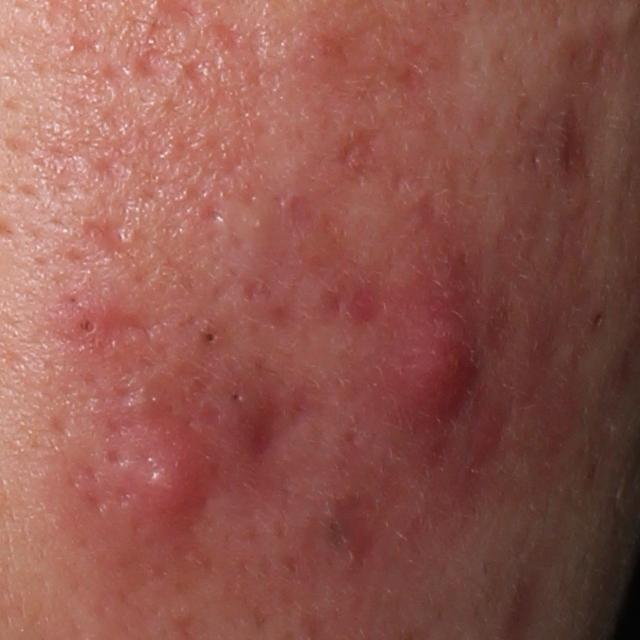atrophic_scar: (77, 214, 147, 260), (330, 123, 377, 175), (559, 105, 586, 182), (132, 46, 163, 81)
comedo: (199, 329, 223, 349), (224, 388, 243, 405)
nodule: (378, 273, 492, 436)
papule: (121, 422, 223, 540), (230, 401, 277, 462)
